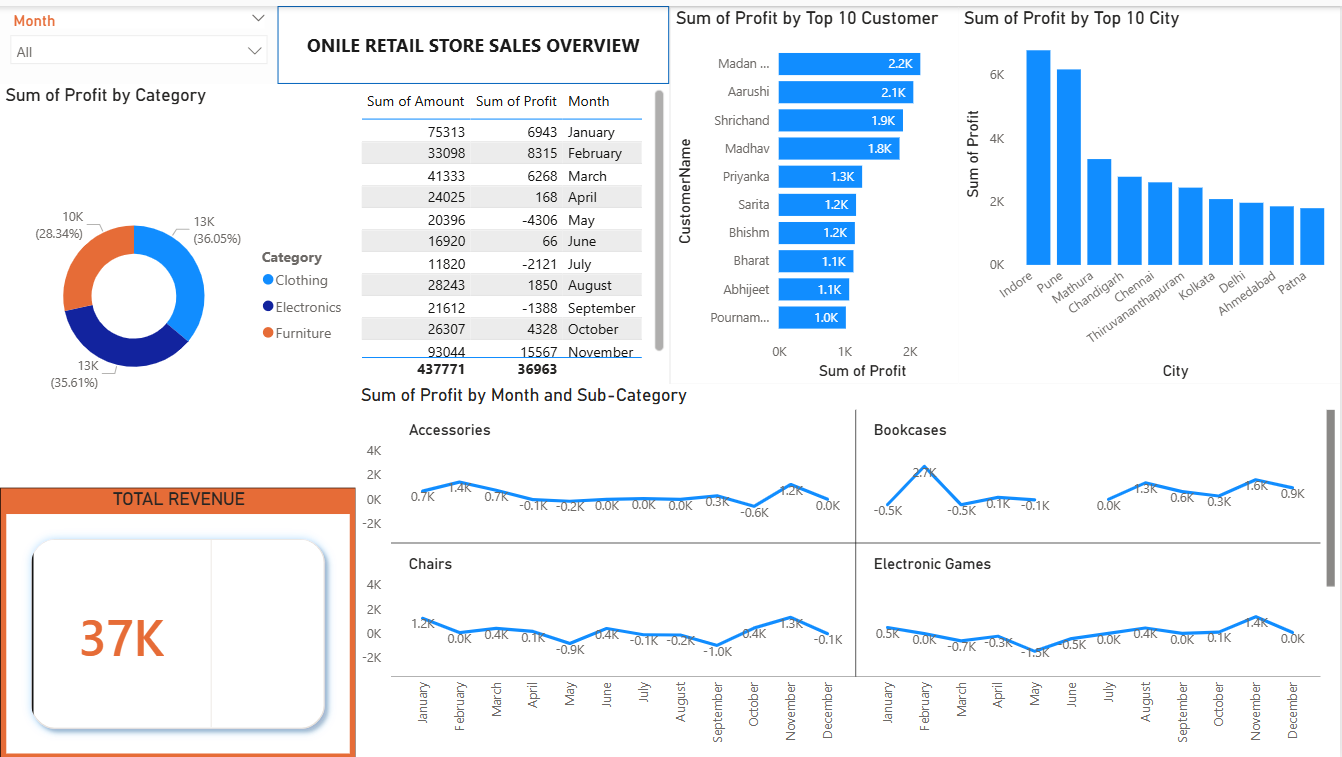

Layout of this report page (visuals, bound fields, positions):
{"tool":"powerbi","page":{"name":"Page 1","canvas":[1280,720],"ordinal":0},"visuals":[{"type":"cardVisual","title":"TOTAL REVENUE","fields":{"Data":["Sum(Details.Profit)"]},"box":[0,459.9,340,260.7],"z":0},{"type":"slicer","fields":{"Values":["orders.Order Date.Variation.Date Hierarchy.Month"]},"box":[0,0,265.6,74.5],"z":1000},{"type":"donutChart","fields":{"Category":["Details.Category"],"Y":["Sum(Details.Profit)"]},"box":[0,74.5,340,385.4],"z":2000},{"type":"lineChart","fields":{"Y":["Sum(Details.Profit)"],"Category":["orders.Order Date.Variation.Date Hierarchy.Month"],"Rows":["Details.Sub-Category"]},"box":[340,361.1,940.8,359.5],"z":3000},{"type":"barChart","title":"Sum of Profit by Top 10 Customer","fields":{"Category":["orders.CustomerName"],"Y":["Sum(Details.Profit)"]},"box":[639.6,1.6,275.3,359.5],"z":4000},{"type":"tableEx","fields":{"Values":["Sum(Details.Amount)","Sum(Details.Profit)","orders.Order Date.Variation.Date Hierarchy.Month"]},"box":[340,74.5,299.6,286.6],"z":5000},{"type":"clusteredColumnChart","title":"Sum of Profit by Top 10 City","fields":{"Category":["orders.City"],"Y":["Sum(Details.Profit)"]},"box":[914.9,1.6,365.9,359.5],"z":6000},{"type":"shape","box":[265.6,0,374,74.5],"z":7000}]}

Visuals, with their boxes in screenshot pixels (x1, y1, x2, y2), scaled from the page's 1280x720 canvas onto the 1342x757 screenshot:
"TOTAL REVENUE" cardVisual: (0,484,356,756)
slicer - orders.Order Date.Variation.Date Hierarchy.Month: (0,0,278,78)
donutChart - Details.Category x Sum(Details.Profit): (0,78,356,484)
lineChart - Sum(Details.Profit) x orders.Order Date.Variation.Date Hierarchy.Month: (356,380,1341,756)
"Sum of Profit by Top 10 Customer" barChart: (671,2,959,380)
tableEx - Sum(Details.Amount) x Sum(Details.Profit): (356,78,671,380)
"Sum of Profit by Top 10 City" clusteredColumnChart: (959,2,1341,380)
shape: (278,0,671,78)
